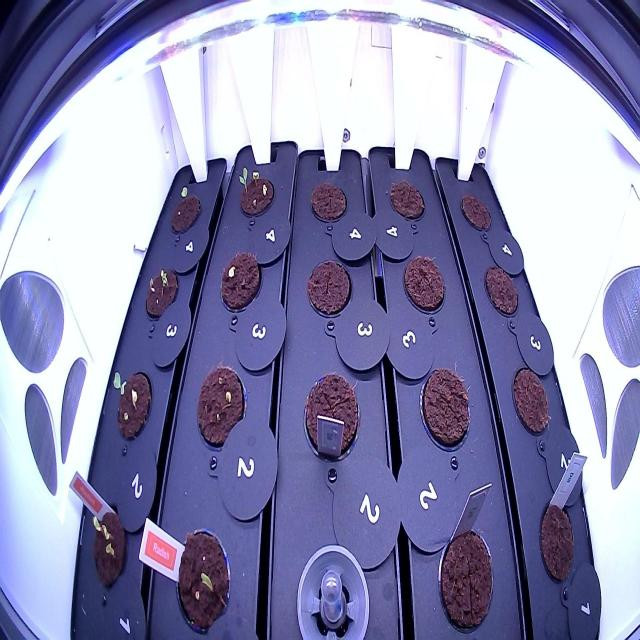germination: (170, 522, 234, 636), (86, 500, 135, 596), (111, 364, 155, 448), (139, 262, 182, 333), (235, 160, 277, 222), (167, 182, 204, 240)
pod: (432, 523, 499, 634), (300, 365, 364, 465), (416, 358, 473, 458), (193, 361, 250, 458), (536, 493, 577, 589), (302, 252, 353, 322), (218, 246, 266, 320), (399, 247, 447, 320), (509, 361, 553, 439), (479, 262, 521, 321), (385, 175, 428, 228), (306, 176, 350, 225), (457, 188, 494, 238)
